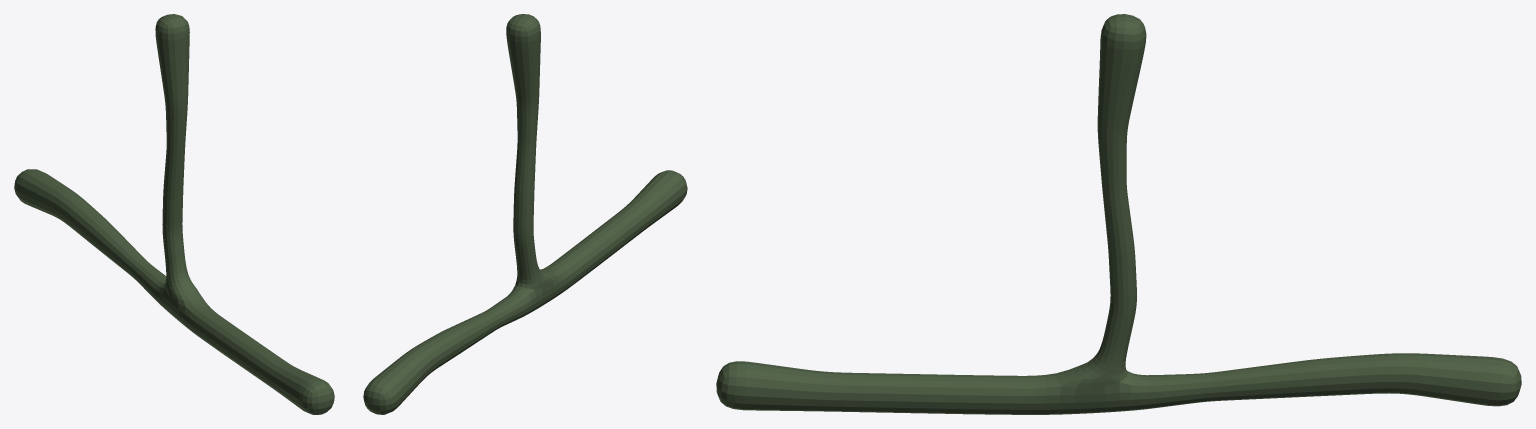
Rendered from spore fungus.gltf.
3 renders of one model, left to right at view 1: azimuth 30°, elevation 25°; view 2: azimuth 150°, elevation 25°; view 3: azimuth 270°, elevation 25°, orthographic. The views are drawn at different scales.
Parts seen in each view (by area): view 1: Cube; view 2: Cube; view 3: Cube.
Part boxes in pixels (bbox=[...]): Cube: bbox=[14, 14, 334, 414]; Cube: bbox=[363, 14, 687, 414]; Cube: bbox=[716, 14, 1521, 414].
Size of the model in its own units: 0.4247 by 3.83 by 7.06.
